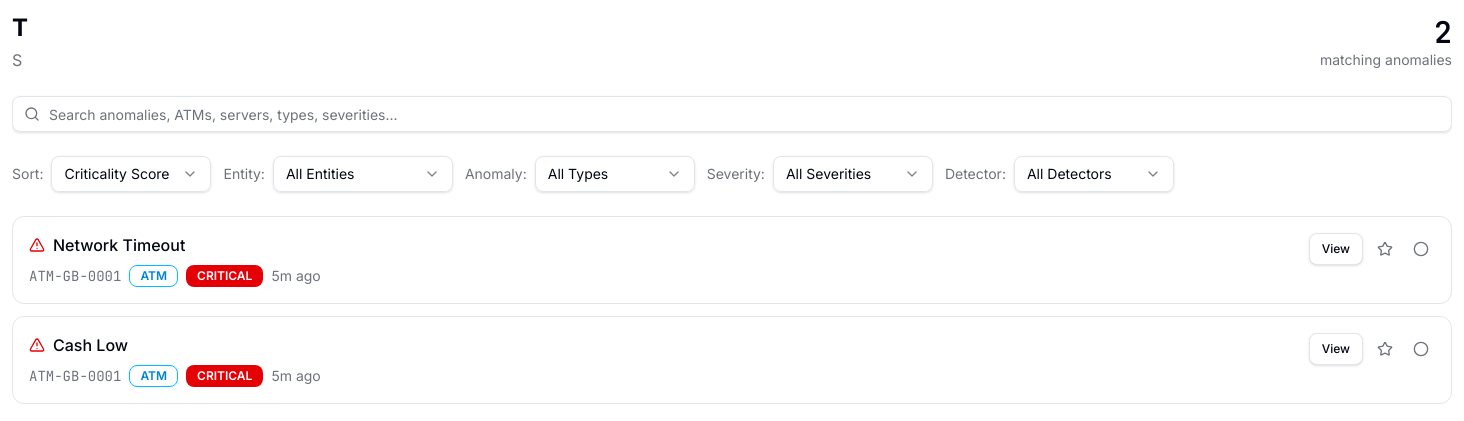
Test case: AnomalyListPage filters › changes sort and shows Clear all, then clears
Check: the heading "Network Timeout" is shown, box top-left (53, 233), bottom-right (185, 257)
Step 1. Click the dropdown labelled "Criticality Score" → [132, 174], box top-left (52, 156), bottom-right (212, 192)
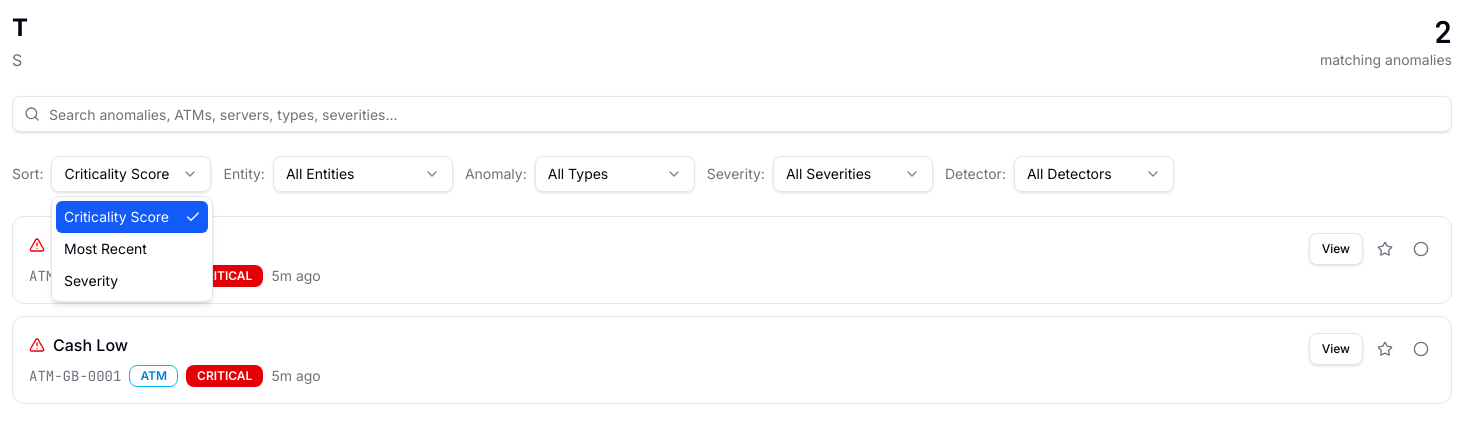
Step 2. Click the option "Most Recent" → [105, 248], box top-left (64, 240), bottom-right (147, 257)
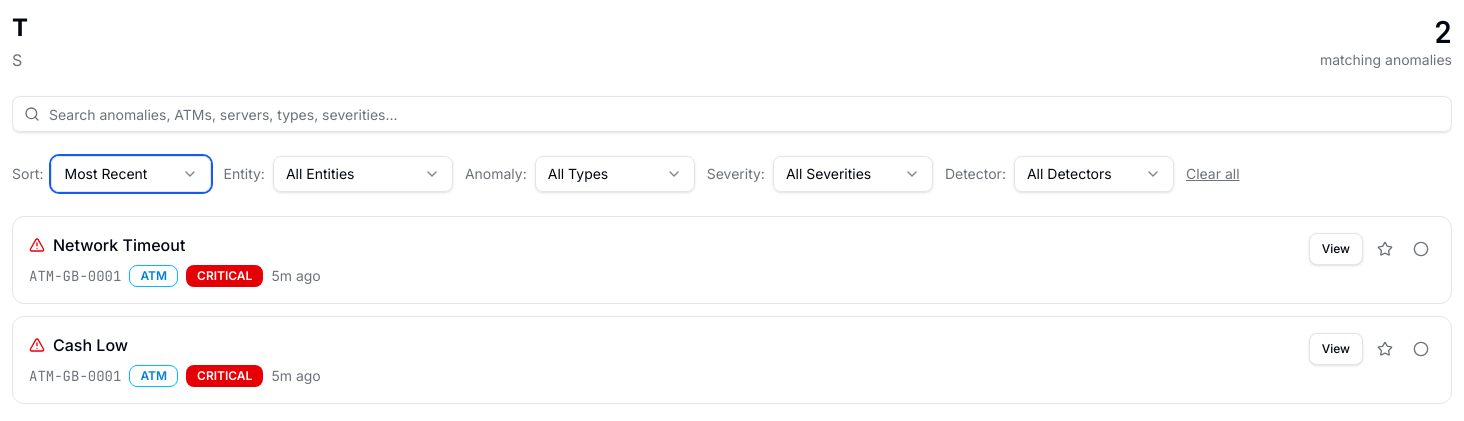
Check: the button "Clear all" is shown
Step 3. Click the button "Clear all" → [1213, 174], box top-left (1186, 164), bottom-right (1240, 184)
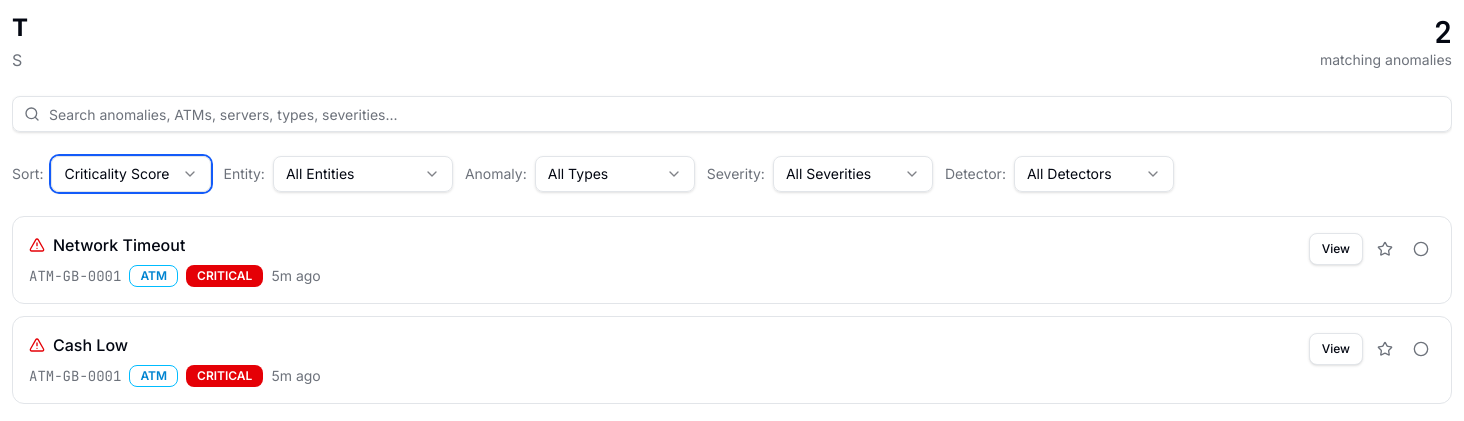
Check: the button "Clear all" is gone
